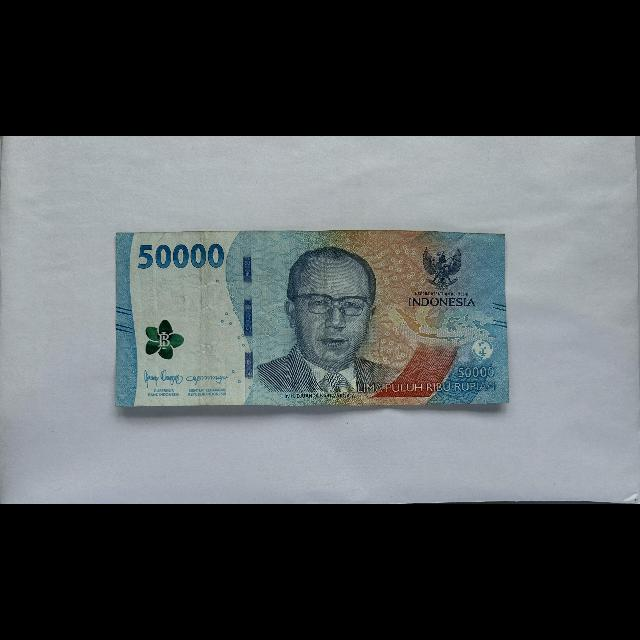Asli-50k: (114, 228, 511, 408)
Tinta-Asli-50k: (145, 318, 185, 360)
